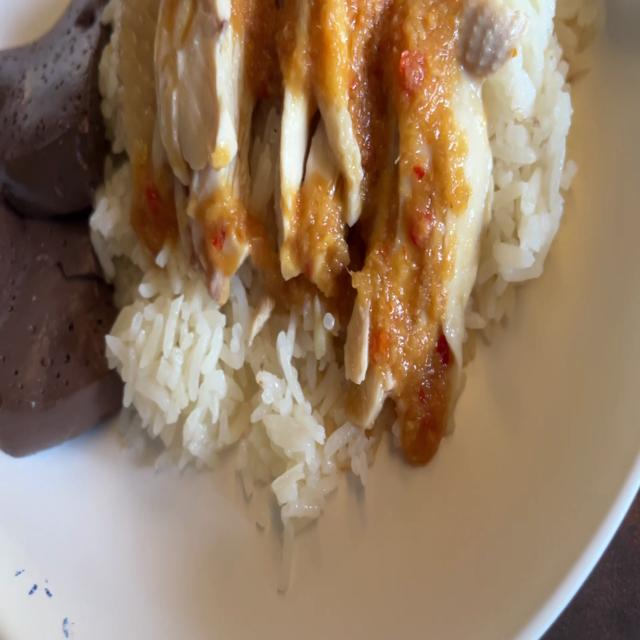boiled_chicken: (125, 0, 510, 376)
boiled_chicken_blood_jelly: (0, 190, 113, 426), (0, 0, 103, 215)
chicken_rice: (0, 0, 592, 549)
